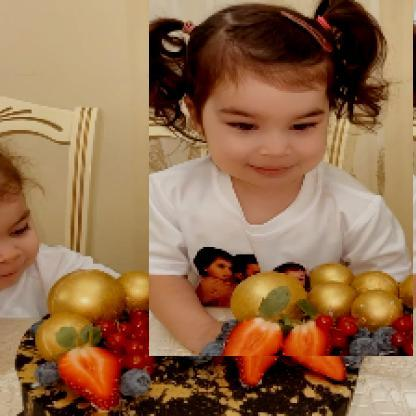child: (150, 1, 415, 358)
